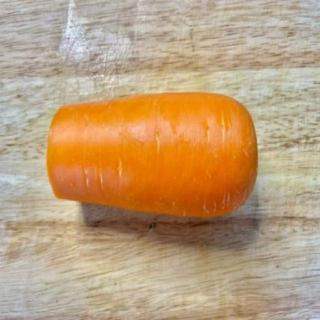carrot: (42, 90, 259, 222)
